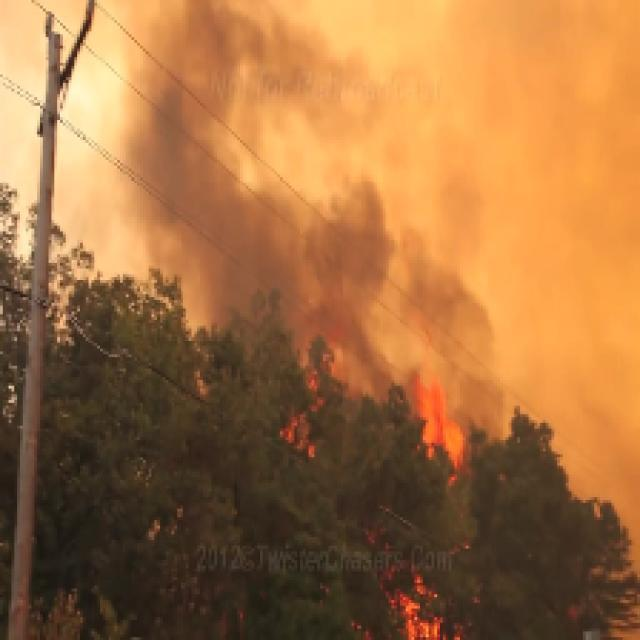Fire: (266, 317, 514, 640)
Smoke: (109, 0, 528, 360)
